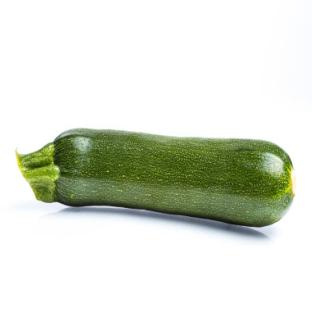Zucchini: (17, 129, 294, 226)
